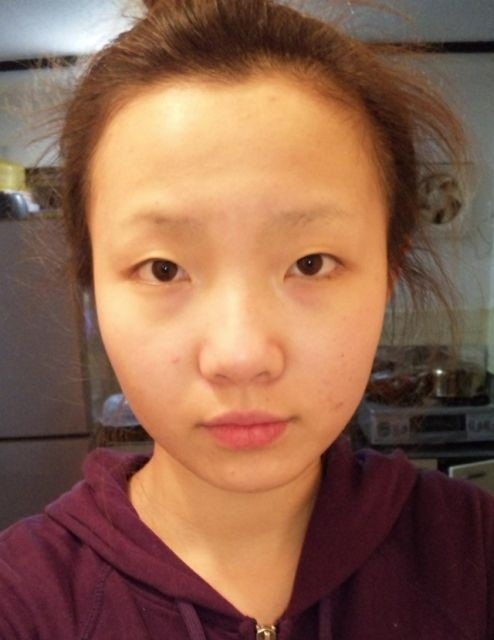face_no_mask: (70, 6, 397, 493)
